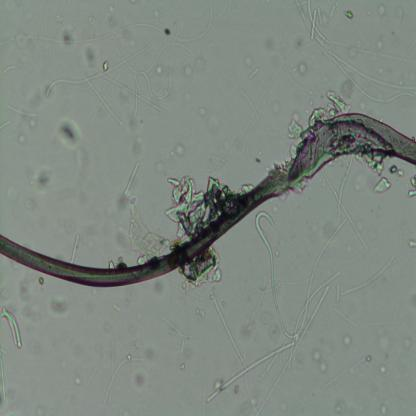Background material: (164, 172, 233, 236), (126, 205, 172, 263), (86, 76, 122, 126), (308, 90, 352, 129), (183, 253, 224, 287), (18, 275, 37, 320), (127, 119, 146, 164), (57, 116, 83, 147), (161, 315, 192, 340), (287, 115, 304, 155), (50, 290, 72, 320), (361, 151, 385, 178), (59, 23, 77, 52), (131, 366, 150, 392), (34, 164, 52, 191), (311, 345, 328, 372), (84, 42, 99, 71), (378, 327, 390, 357), (116, 188, 129, 213), (332, 397, 350, 415), (373, 177, 392, 194), (387, 164, 405, 180), (407, 173, 416, 198), (107, 258, 127, 269), (194, 58, 209, 72), (376, 2, 387, 20), (170, 144, 186, 156), (401, 337, 413, 352), (184, 63, 194, 80), (342, 332, 352, 349), (270, 101, 282, 115), (342, 8, 353, 22), (195, 307, 207, 319), (130, 340, 142, 352), (244, 54, 254, 68), (29, 115, 38, 130), (298, 63, 308, 76), (154, 64, 165, 75), (73, 376, 83, 388), (375, 37, 384, 50), (18, 133, 28, 144), (408, 237, 416, 250), (380, 405, 388, 415), (198, 107, 206, 117), (39, 276, 44, 291), (103, 60, 108, 74), (380, 364, 387, 374), (180, 361, 186, 370), (366, 355, 372, 363)
Glass filter fibre: (255, 211, 348, 338), (0, 1, 215, 48), (258, 288, 331, 415), (45, 44, 153, 98), (207, 340, 297, 402), (131, 29, 183, 119), (331, 56, 413, 106), (320, 168, 369, 251), (328, 50, 416, 93), (207, 288, 246, 368), (341, 251, 396, 295), (103, 357, 144, 404), (307, 0, 331, 46), (0, 304, 23, 349), (123, 162, 140, 196), (240, 91, 258, 120), (8, 103, 36, 117), (0, 352, 7, 402), (70, 235, 80, 264), (310, 10, 318, 40), (2, 64, 17, 76), (111, 302, 123, 314), (334, 284, 342, 302), (248, 67, 259, 79), (0, 119, 12, 127), (180, 341, 186, 355)
Microfibre: (0, 113, 416, 288)
